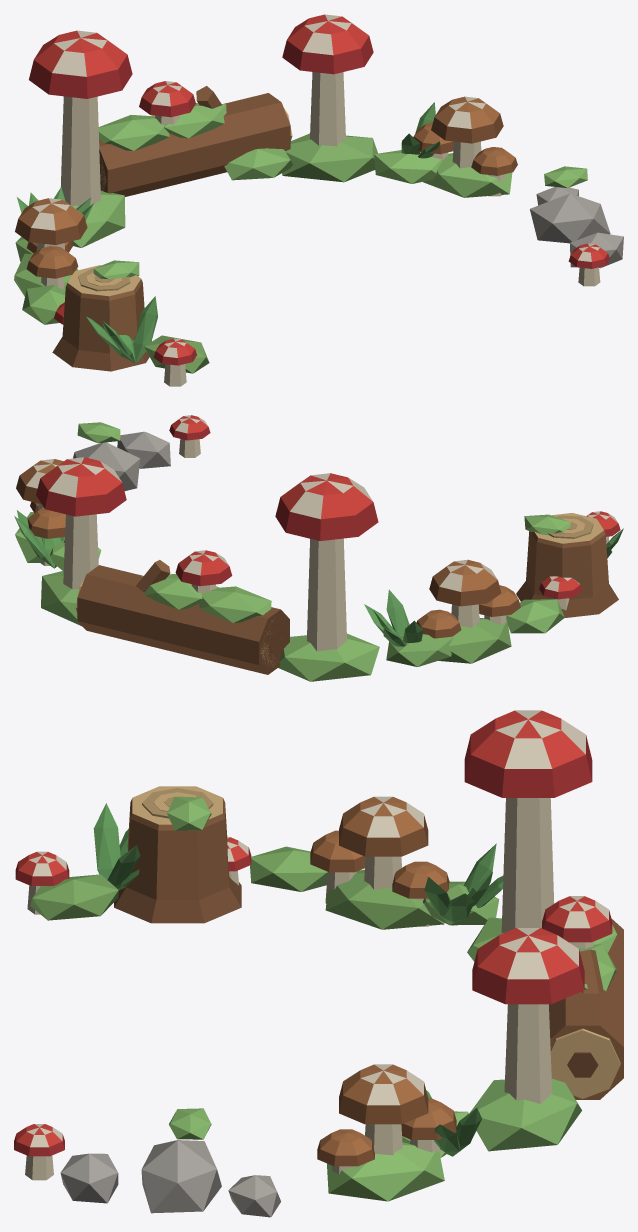
The model's file is habitat_theme_forest.fbx.
3 views of the same model, one above another, from view 1: azimuth 30°, elevation 25°; view 2: azimuth 150°, elevation 25°; view 3: azimuth 270°, elevation 25° (orthographic). The views are drawn at different scales.
Visible parts, largest first — view 1: habitat_theme_forest; view 2: habitat_theme_forest; view 3: habitat_theme_forest.
Part boxes in pixels (x1,y1,x2,y2): habitat_theme_forest: (14,14,623,386); habitat_theme_forest: (14,415,623,681); habitat_theme_forest: (14,710,623,1217).
Bounding box in the file's own units: 7.46 × 2.45 × 5.47.
